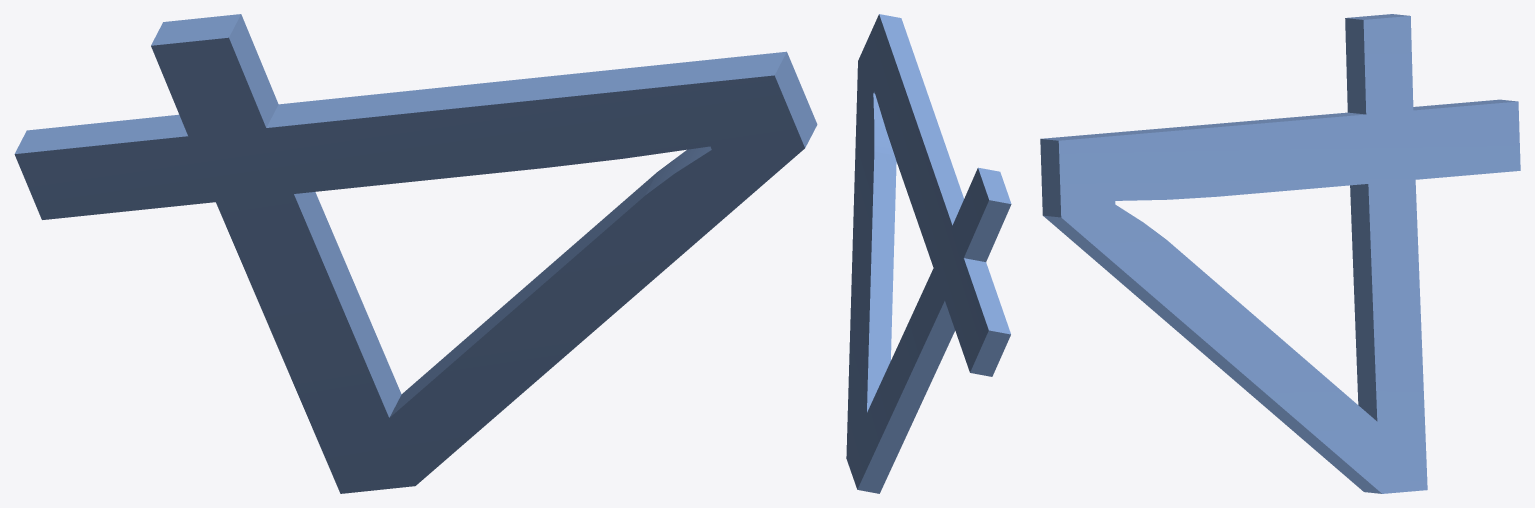
Rendered from New_Number_4.gltf.
3 renders of one model, left to right at view 1: azimuth 30°, elevation 25°; view 2: azimuth 150°, elevation 25°; view 3: azimuth 270°, elevation 25°, orthographic. The views are drawn at different scales.
Visible parts, largest first — view 1: Part 382; view 2: Part 382; view 3: Part 382.
Boxes of the visible parts, x1,y1,x2,y2 form: Part 382: (14,14,817,493); Part 382: (846,14,1011,493); Part 382: (1040,14,1520,493).
Size of the model in its own units: 0.0041 by 0.00412 by 0.00414.
